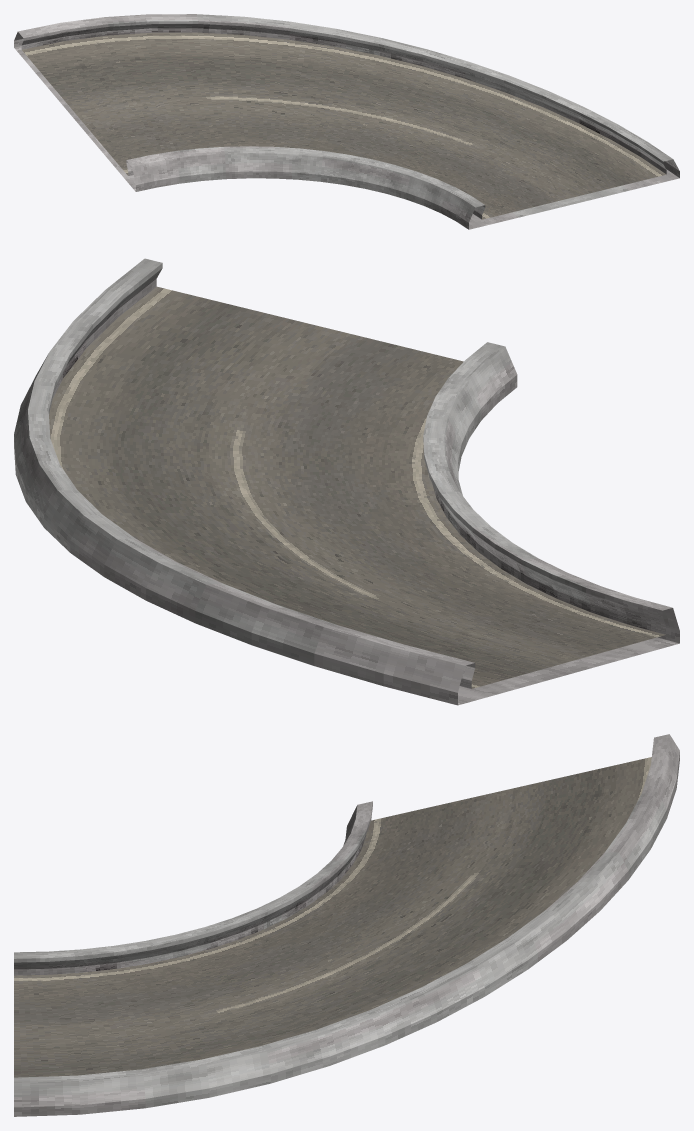
File: turn-left2x2.glb
3 renders of one model, top to bottom at view 1: azimuth 30°, elevation 25°; view 2: azimuth 150°, elevation 25°; view 3: azimuth 270°, elevation 25°, orthographic. The views are drawn at different scales.
Visible parts, largest first — view 1: road-Turn-Flat-HalfBankedLeft-Even-Left-Size2; view 2: road-Turn-Flat-HalfBankedLeft-Even-Left-Size2; view 3: road-Turn-Flat-HalfBankedLeft-Even-Left-Size2.
Part boxes in pixels (box(x1,y1,x2,y2)): road-Turn-Flat-HalfBankedLeft-Even-Left-Size2: box(14, 14, 679, 229); road-Turn-Flat-HalfBankedLeft-Even-Left-Size2: box(14, 258, 679, 705); road-Turn-Flat-HalfBankedLeft-Even-Left-Size2: box(14, 734, 679, 1116).
Bounding box in the file's own units: 2 × 0.3359 × 2.
Materials: 2 (2 with a texture image).
